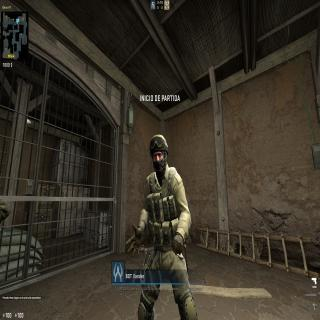CT-Head: (149, 134, 169, 173)
